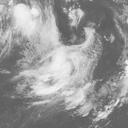cyclone: (31, 43, 92, 106)
